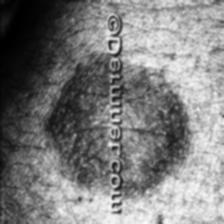Non-Cancerous Skin Condition: (48, 48, 191, 196)
